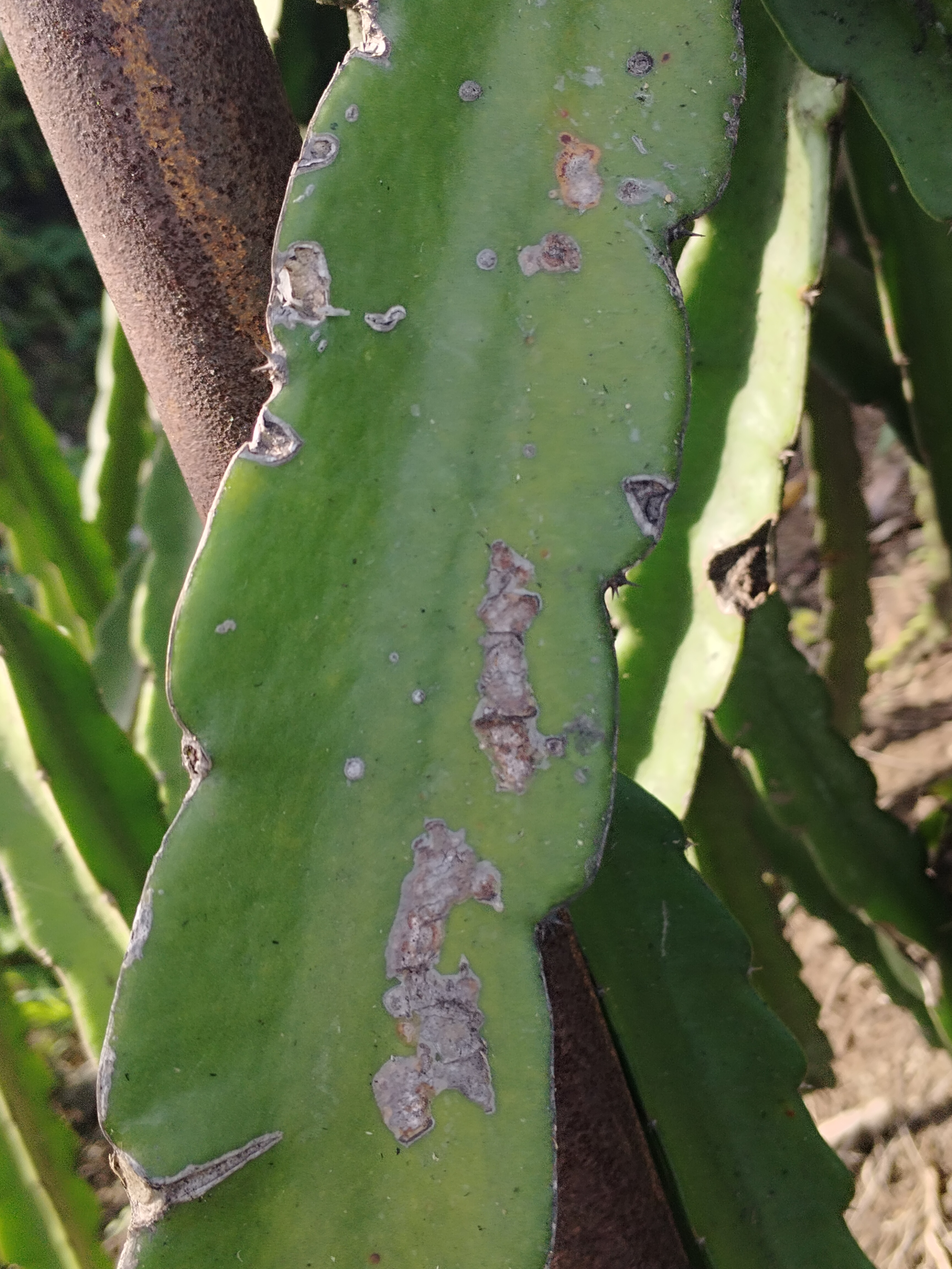stemcanker: (79, 2, 759, 1263)
